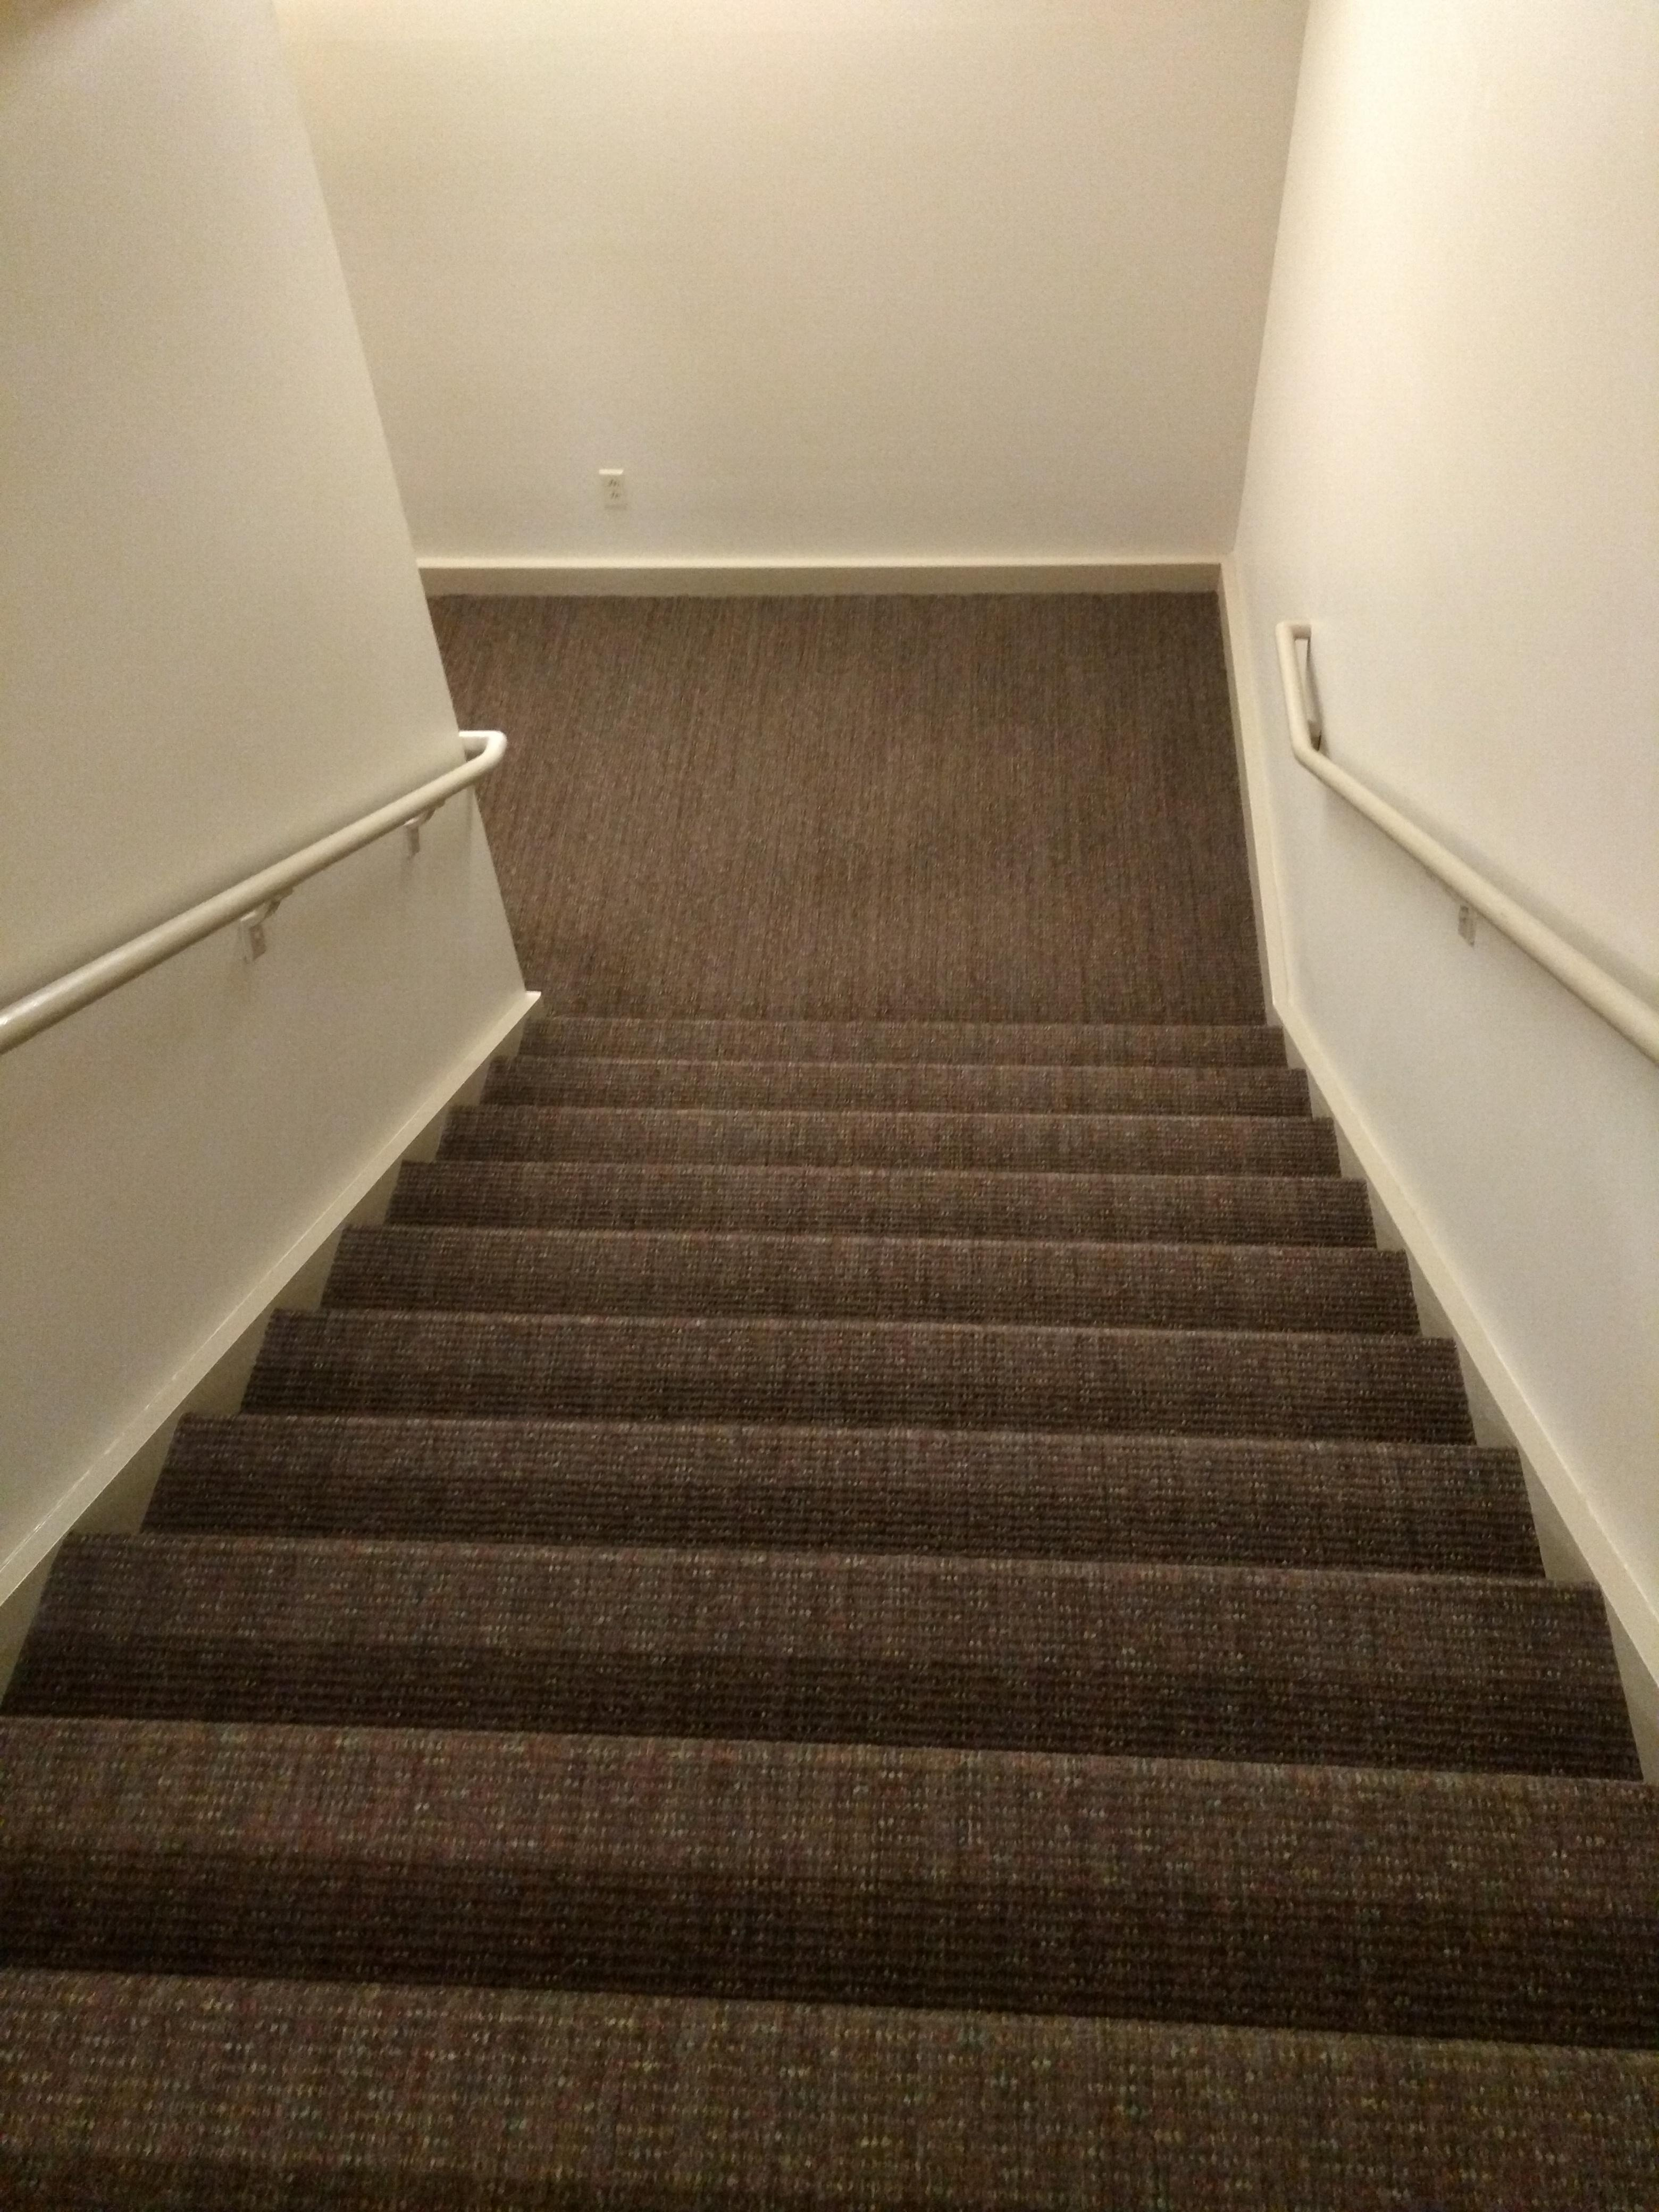stairs_down: (0, 991, 1659, 2193)
